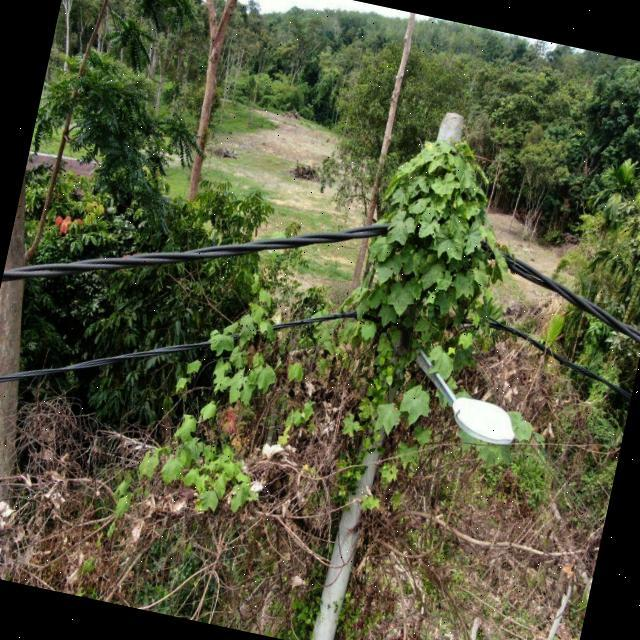critical vegetation: (304, 116, 546, 555)
